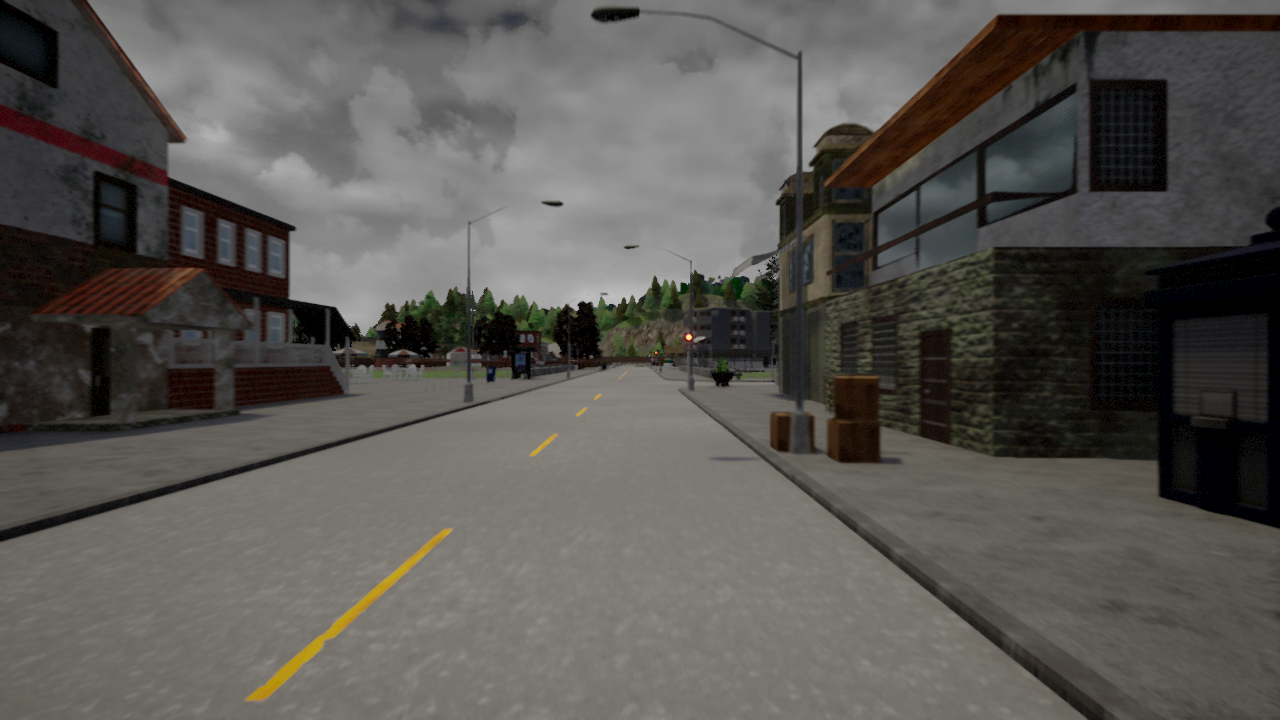red: (684, 333, 692, 352)
